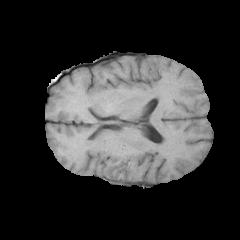glioma: (102, 158, 133, 184)
